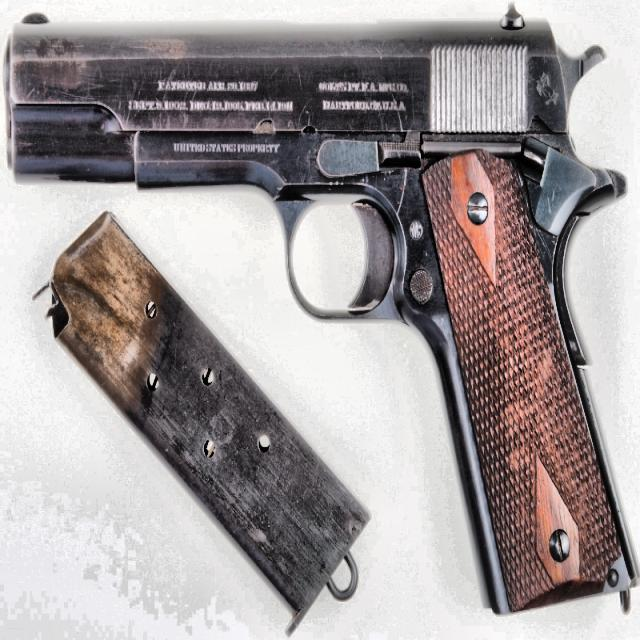Colt m1911: (2, 3, 636, 620)
